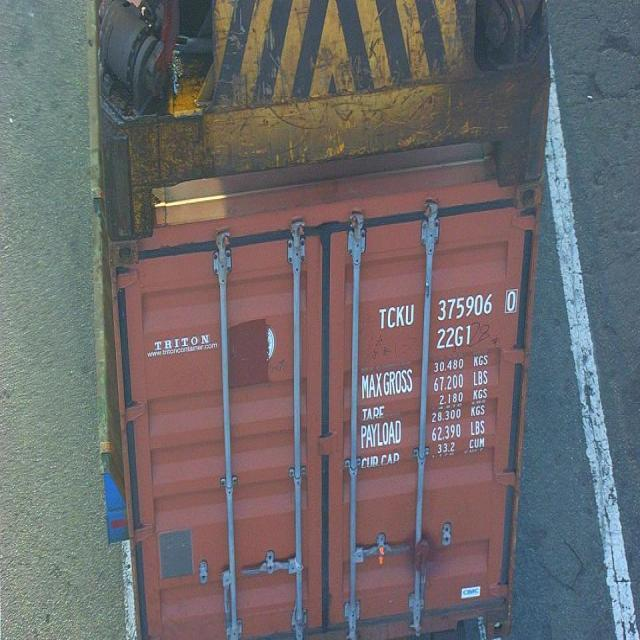ISO: (437, 321, 474, 348)
container_number: (376, 290, 518, 330)
